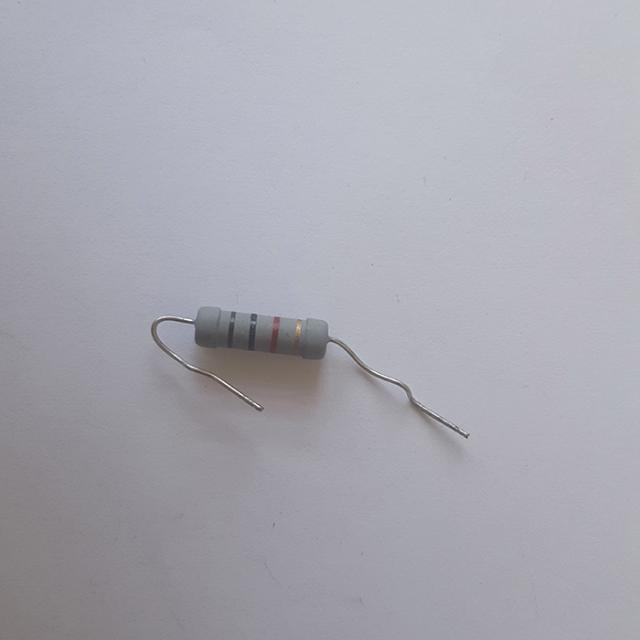black: (249, 314, 256, 347)
brown: (229, 312, 235, 345)
gold: (294, 318, 300, 353)
red: (271, 317, 279, 350)
resistor: (185, 296, 342, 372)
